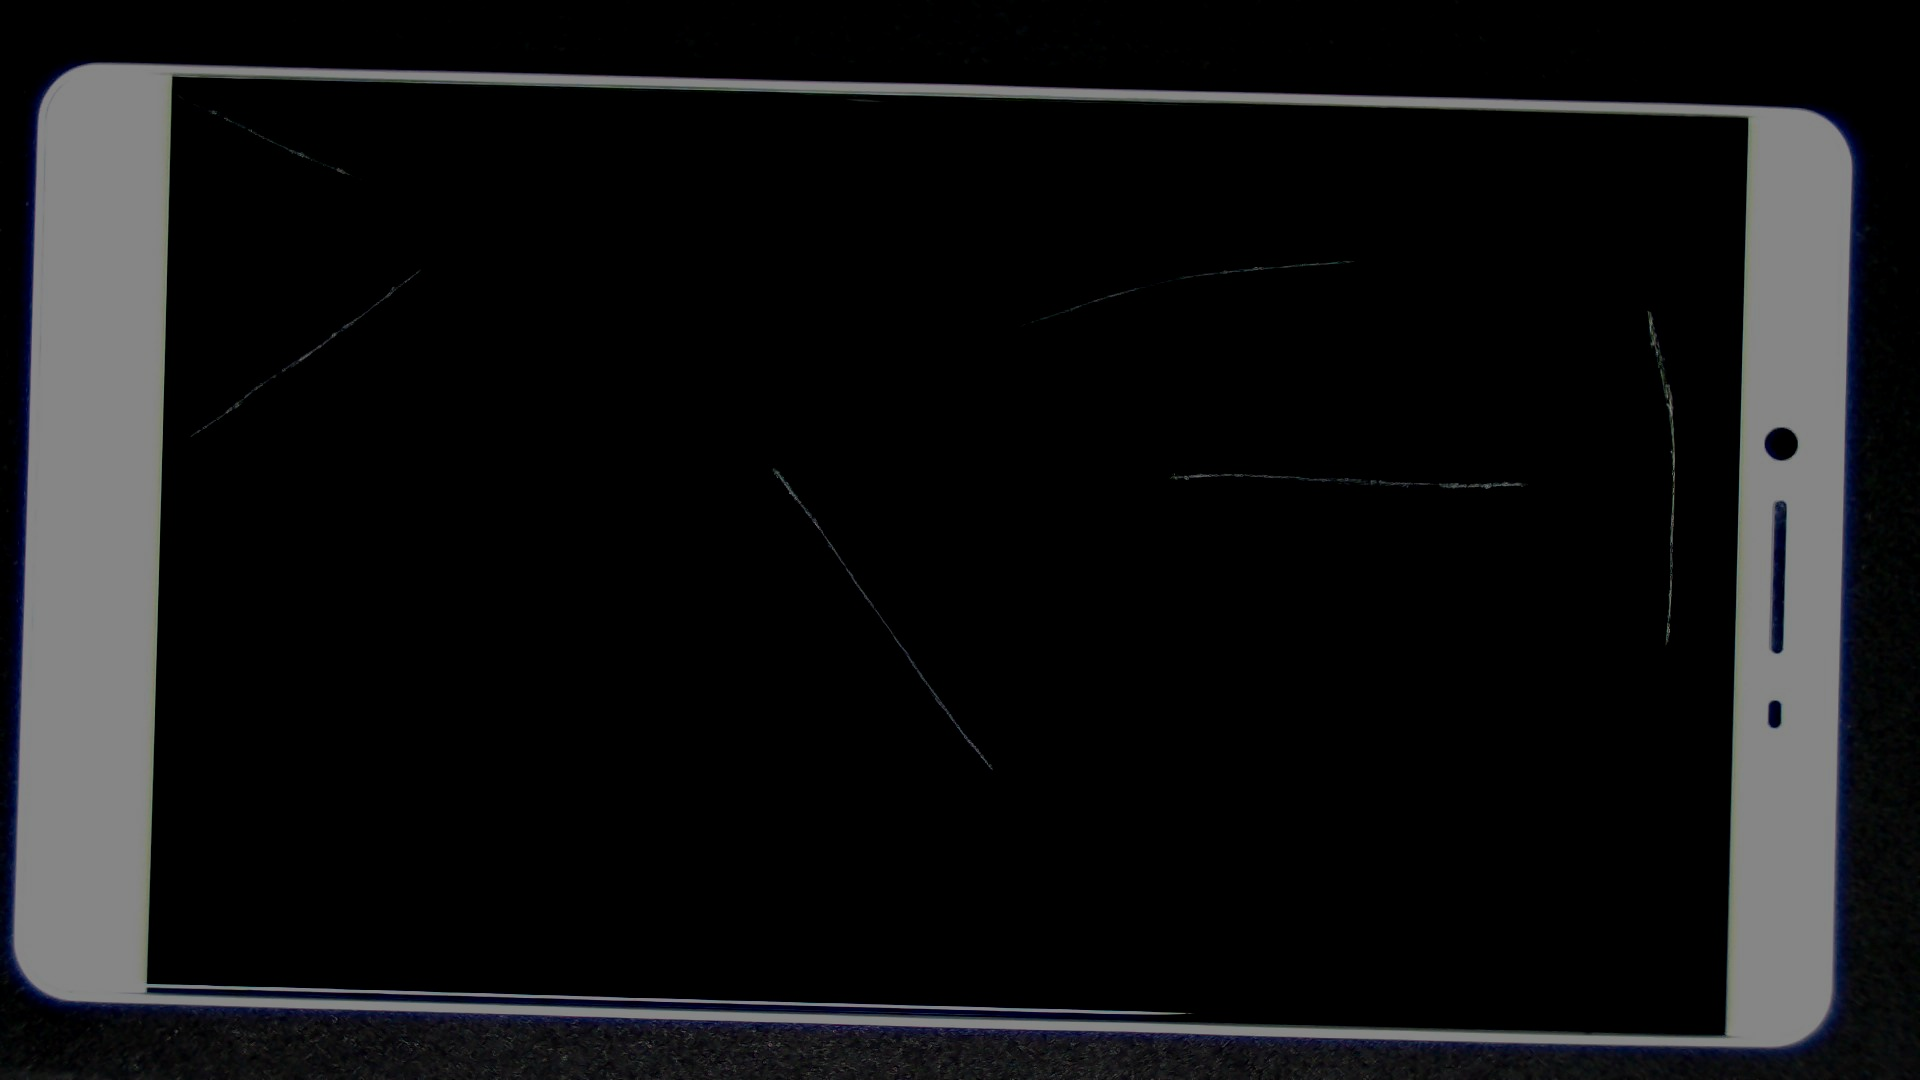oil: (599, 235, 1795, 707), (388, 232, 1159, 699), (825, 152, 1920, 460), (667, 129, 1920, 389), (211, 132, 630, 400), (90, 46, 266, 138)
